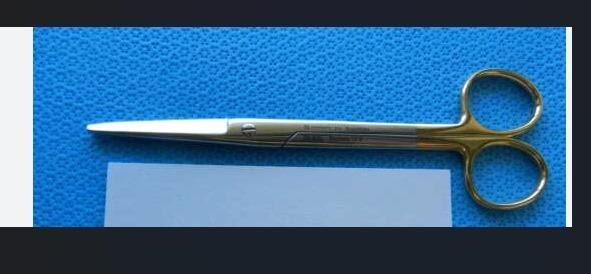Straight Mayo: (82, 66, 555, 214)
